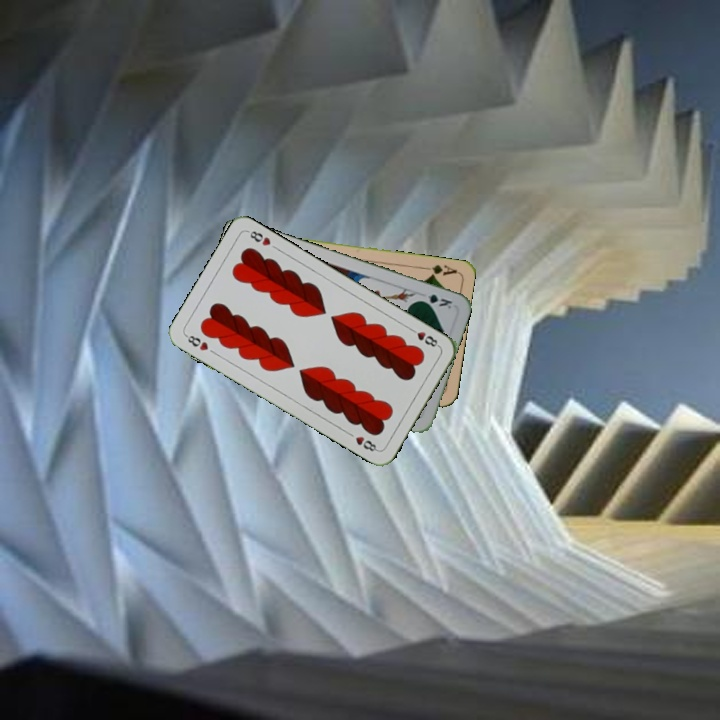GA: (419, 260, 459, 279)
GK: (415, 290, 454, 312)
H8: (405, 324, 442, 350), (181, 330, 211, 353)
